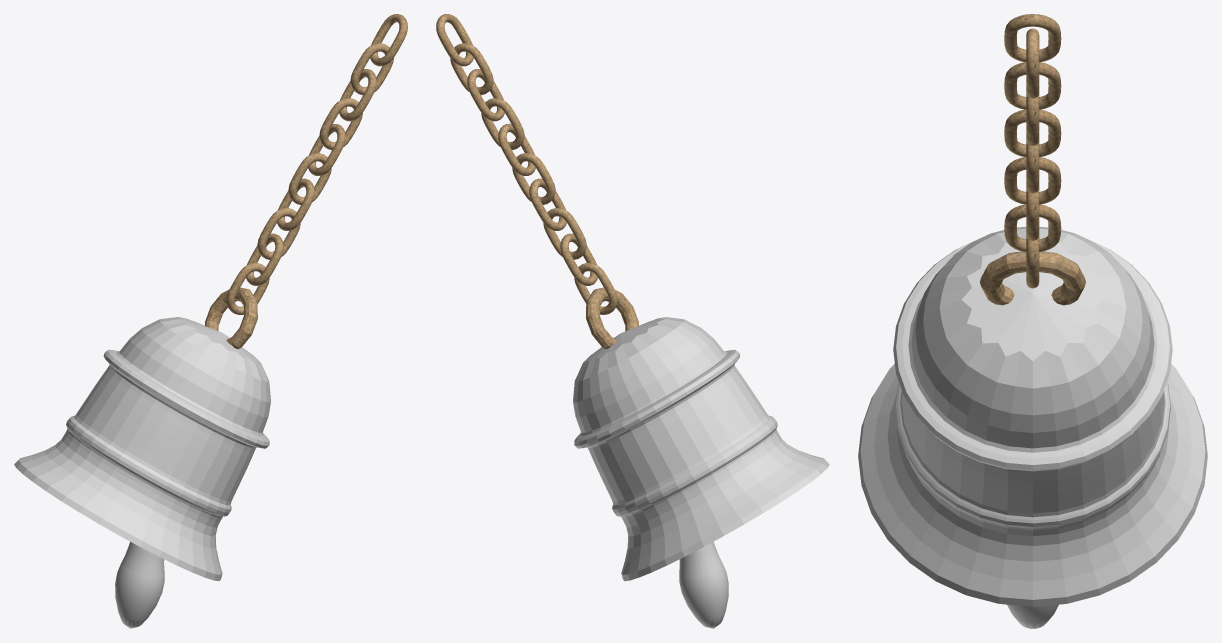
Rendered from bell1.fbx.
3 views of the same model, side by side, from view 1: azimuth 30°, elevation 25°; view 2: azimuth 150°, elevation 25°; view 3: azimuth 270°, elevation 25° (orthographic). The views are drawn at different scales.
Parts seen in each view (by area): view 1: Cylinder, Torus.001, Cylinder.001, Torus; view 2: Cylinder, Torus.001, Cylinder.001, Torus; view 3: Cylinder, Torus.001, Torus, Cylinder.001.
Boxes of the visible parts, left/top/right/bottom form: Cylinder: left=14, top=317, right=270, bottom=580; Torus.001: left=226, top=14, right=407, bottom=314; Cylinder.001: left=115, top=541, right=164, bottom=628; Torus: left=205, top=287, right=257, bottom=349; Cylinder: left=573, top=317, right=829, bottom=581; Torus.001: left=436, top=14, right=617, bottom=314; Cylinder.001: left=679, top=542, right=728, bottom=628; Torus: left=586, top=287, right=638, bottom=349; Cylinder: left=858, top=226, right=1207, bottom=606; Torus.001: left=1004, top=14, right=1061, bottom=288; Torus: left=980, top=251, right=1085, bottom=305; Cylinder.001: left=1007, top=604, right=1058, bottom=628.
Bounding box in the file's own units: 129 × 181 × 71.13.
